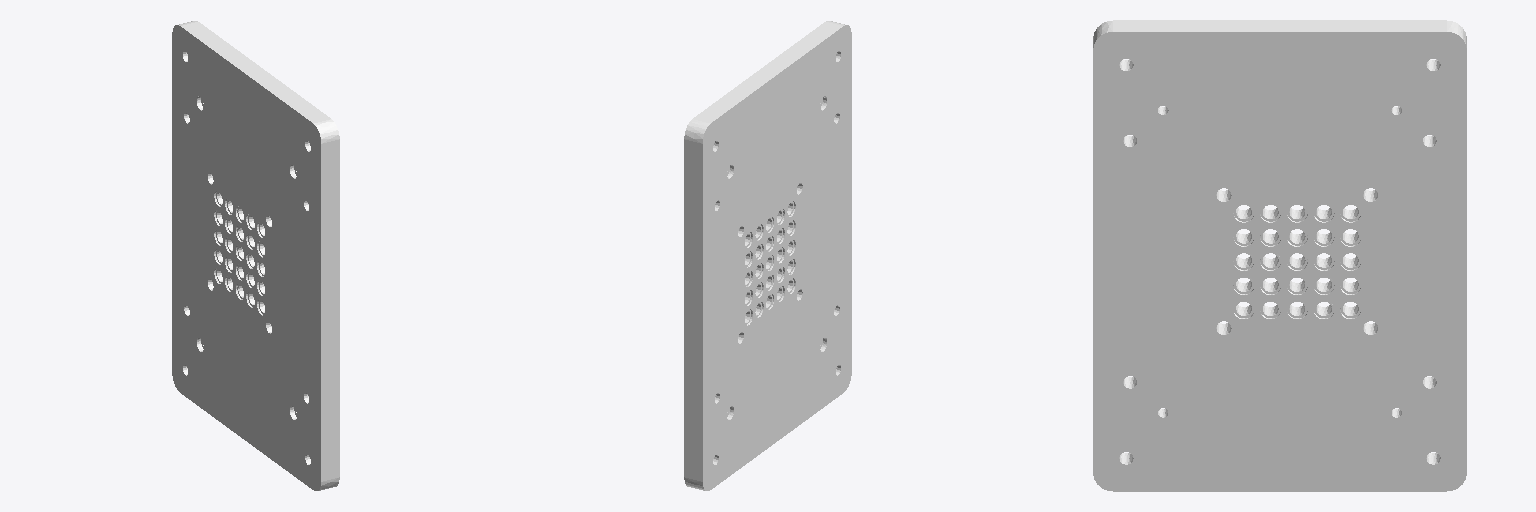
The robot description file, URDF, robot "mycobot_ai":
<?xml version="1.0"?>
<robot xmlns:xacro="http://www.ros.org/wiki/xacro" name="mycobot_ai">


  <link name="env">
    <visual>
      <geometry>
        <!--- 0.0 0 -0.04  1.5708 3.14159-->
        <mesh filename="package://mycobot_description/urdf/mycobot_280_pi/suit_env.dae"/>
      </geometry>
      <origin xyz = "0 0 -0.02 " rpy = "1.5708 0 -1.5708"/>
    </visual>
  </link>

  <link name="joint1">
    <visual>
      <geometry>
        <!--- 0.0 0 -0.04  1.5708 3.14159-->
        <mesh filename="package://mycobot_description/urdf/mycobot_280_pi/joint1.dae"/>
      </geometry>
      <origin xyz = "0.0 0 0 " rpy = " 0 0 -1.5708"/>
    </visual>
    <collision>
      <geometry>
        <!--- 0.0 0 -0.04  1.5708 3.14159-->
        <mesh filename="package://mycobot_description/urdf/mycobot_280_pi/joint1.dae"/>
      </geometry>
      <origin xyz = "0.0 0 0 " rpy = " 0 0 -1.5708"/>
    </collision>
  </link>

  <link name="joint2">
    <visual>
      <geometry>
        <mesh filename="package://mycobot_description/urdf/mycobot_280_pi/joint2.dae"/>
      </geometry>
      <origin xyz = "0.0 0 -0.06096 " rpy = " 0 0 -1.5708"/>
    </visual>
    <collision>
      <geometry>
        <mesh filename="package://mycobot_description/urdf/mycobot_280_pi/joint2.dae"/>
      </geometry>
      <origin xyz = "0.0 0 -0.06096 " rpy = " 0 0 -1.5708"/>
    </collision>
  </link>


  <link name="joint3">
    <visual>
      <geometry>
        <mesh filename="package://mycobot_description/urdf/mycobot_280_pi/joint3.dae"/>
      </geometry>
      <origin xyz = "0.0 0 0.03256 " rpy = " 0 -1.5708 0"/>
    </visual>
    <collision>
      <geometry>
        <mesh filename="package://mycobot_description/urdf/mycobot_280_pi/joint3.dae"/>
      </geometry>
      <origin xyz = "0.0 0 0.03256 " rpy = " 0 -1.5708 0"/>
    </collision>
  </link>


  <link name="joint4">
    <visual>
      <geometry>
        <!--- 0.0 0 -0.04 -->
        <mesh filename="package://mycobot_description/urdf/mycobot_280_pi/joint4.dae"/>
      </geometry>
      <origin xyz = "0.0 0 0.03056 " rpy = " 0 -1.5708 0"/>
    </visual>
    <collision>
      <geometry>
        <!--- 0.0 0 -0.04 -->
        <mesh filename="package://mycobot_description/urdf/mycobot_280_pi/joint4.dae"/>
      </geometry>
      <origin xyz = "0.0 0 0.03056 " rpy = " 0 -1.5708 0"/>
    </collision>
  </link>


  <link name="joint5">
    <visual>
      <geometry>
        <!--- 0.0 0 -0.04 -->
        <mesh filename="package://mycobot_description/urdf/mycobot_280_pi/joint5.dae"/>
      </geometry>
      <origin xyz = "0.0 -0.001 -0.0345 " rpy = "-1.5708 0 0"/>
    </visual>
    <collision>
      <geometry>
        <!--- 0.0 0 -0.04 -->
        <mesh filename="package://mycobot_description/urdf/mycobot_280_pi/joint5.dae"/>
      </geometry>
      <origin xyz = "0.0 -0.001 -0.0345 " rpy = "-1.5708 0 0"/>
    </collision>
  </link>


  <link name="joint6">
    <visual>
      <geometry>
        <!--- 0.0 0 -0.04 -->
        <mesh filename="package://mycobot_description/urdf/mycobot_280_pi/joint6.dae"/>
      </geometry>
      <origin xyz = "0 0.00 -0.038 " rpy = " 0 0 0"/>
    </visual>
    <collision>
      <geometry>
        <!--- 0.0 0 -0.04 -->
        <mesh filename="package://mycobot_description/urdf/mycobot_280_pi/joint6.dae"/>
      </geometry>
      <origin xyz = "0 0.00 -0.038 " rpy = " 0 0 0"/>
    </collision>
  </link>


  <link name="joint6_flange">
    <visual>
      <geometry>
        <!--- 0.0 0 -0.04 -->
        <mesh filename="package://mycobot_description/urdf/mycobot_280_pi/joint7.dae"/>
      </geometry>
      <origin xyz = "0.0 0 -0.012 " rpy = " 0 0 0"/>
    </visual>
    <collision>
      <geometry>
        <!--- 0.0 0 -0.04 -->
        <mesh filename="package://mycobot_description/urdf/mycobot_280_pi/joint7.dae"/>
      </geometry>
      <origin xyz = "0.0 0 -0.012 " rpy = " 0 0 0"/>
    </collision>
  </link>





  <joint name="joint2_to_joint1" type="revolute">
    <axis xyz="0 0 1"/>
    <limit effort = "1000.0" lower = "-3.14" upper = "3.14159" velocity = "0"/>
    <parent link="joint1"/>
    <child link="joint2"/>
    <origin xyz= "0 0 0.13156" rpy = "0 0 0"/>
  </joint>

  <joint name="joint3_to_joint2" type="revolute">
    <axis xyz="0 0 1"/>
    <limit effort = "1000.0" lower = "-3.14" upper = "3.14159" velocity = "0"/>
    <parent link="joint2"/>
    <child link="joint3"/>
    <origin xyz= "0 0  0" rpy = "0 1.5708 -1.5708"/>
  </joint>


  <joint name="joint4_to_joint3" type="revolute">
    <axis xyz=" 0 0 1"/>
    <limit effort = "1000.0" lower = "-3.14" upper = "3.14159" velocity = "0"/>
    <parent link="joint3"/>
    <child link="joint4"/>
    <origin xyz= "  -0.1104 0 0   " rpy = "0 0 0"/>
  </joint>



  <joint name="joint5_to_joint4" type="revolute">
    <axis xyz=" 0 0 1"/>
    <limit effort = "1000.0" lower = "-3.14" upper = "3.14159" velocity = "0"/>
    <parent link="joint4"/>
    <child link="joint5"/>
    <origin xyz= "-0.096 0 0.06462" rpy = "0 0 -1.5708"/>
  </joint>

  <joint name="joint6_to_joint5" type="revolute">
    <axis xyz="0 0 1"/>
    <limit effort = "1000.0" lower = "-3.14" upper = "3.14159" velocity = "0"/>
    <parent link="joint5"/>
    <child link="joint6"/>
    <origin xyz= "0 -0.07318 -0.001" rpy = "1.5708 -1.5708 0"/>
  </joint>

  <joint name="joint6output_to_joint6" type="revolute">
    <axis xyz="0 0 1"/>
    <limit effort = "1000.0" lower = "-3.14" upper = "3.14159" velocity = "0"/>
    <parent link="joint6"/>
    <child link="joint6_flange"/>
    <origin xyz= "0 0.0456 0" rpy = "-1.5708 0 0"/>
  </joint>

  <joint name="vision_joint" type="fixed">
    <axis xyz="0 0 0"/>
    <limit effort = "1000.0" lower = "-3.14" upper = "3.14159" velocity = "0"/>
    <parent link="joint1"/>
    <child link="env"/>
    <origin xyz= "0 0 0" rpy = "0 0 0"/>
  </joint>

</robot>

--- Facts derived from the render (not from the file) ---
3 views of the same robot in one strip: view 1: azimuth 30°, elevation 25°; view 2: azimuth 150°, elevation 25°; view 3: azimuth 270°, elevation 25° (orthographic).
Model mycobot_ai with 8 links and 7 joints (6 revolute, 1 fixed), rooted at joint1, posed all joints at 0.
Links seen in each view (by area): view 1: env; view 2: env; view 3: env.
Boxes of the visible links, left/top/right/bottom form: env: left=172, top=21, right=339, bottom=490; env: left=684, top=21, right=851, bottom=490; env: left=1093, top=20, right=1466, bottom=491.
Size in the robot's own frame: 0.008 by 0.112 by 0.152 metres.
1 mesh visuals loaded from 8 distinct referenced files (1 Collada DAE); not drawn: 7 (reference not matched to a file when rendering).